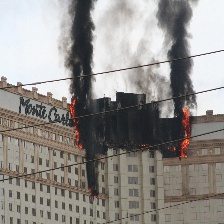fire: (67, 97, 85, 149), (181, 104, 191, 160)
smoke: (142, 1, 202, 104), (61, 1, 107, 99)
